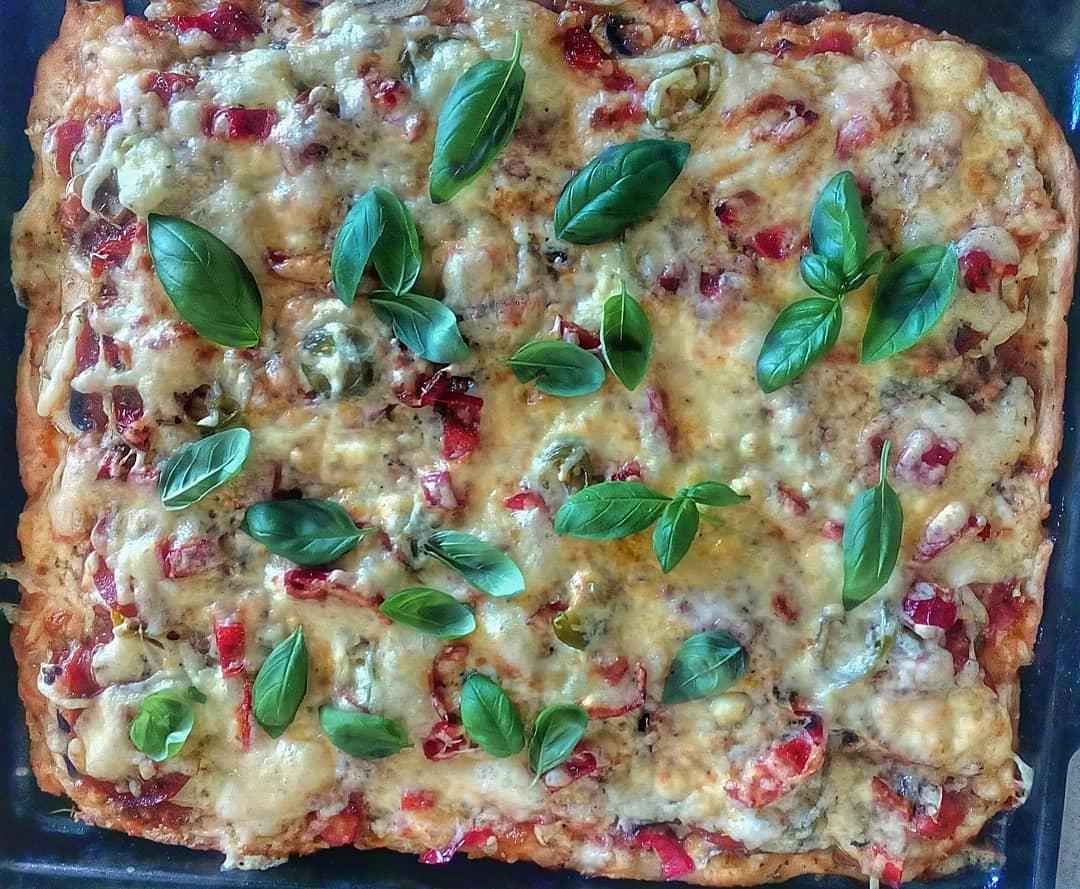Basil: (145, 211, 265, 350), (423, 57, 531, 208), (848, 239, 962, 377), (552, 137, 692, 246), (328, 187, 423, 297), (801, 167, 881, 296), (839, 480, 909, 616), (754, 297, 847, 398), (157, 420, 252, 517), (240, 498, 364, 569), (417, 529, 528, 600), (660, 628, 752, 711), (366, 296, 473, 366), (249, 622, 309, 742), (549, 480, 670, 537), (375, 586, 481, 646), (457, 668, 526, 759), (526, 700, 592, 792), (601, 286, 655, 394), (509, 337, 600, 401), (318, 700, 408, 762), (132, 686, 198, 767), (653, 493, 698, 582), (684, 478, 751, 509)
Pizza: (15, 0, 1044, 889)
